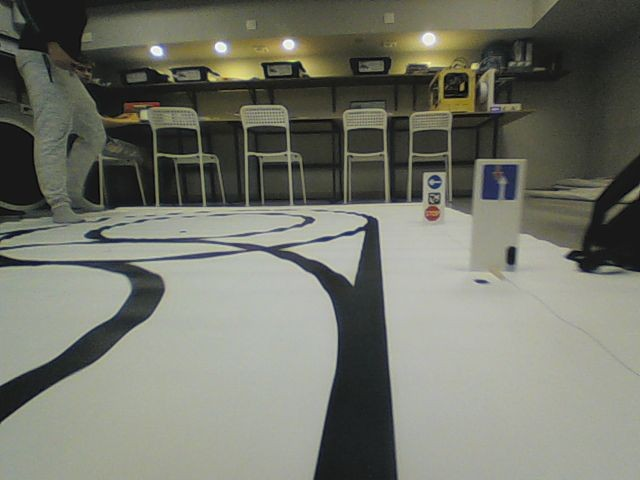Stop: (424, 205, 440, 221)
priority_movement: (480, 162, 519, 202)
